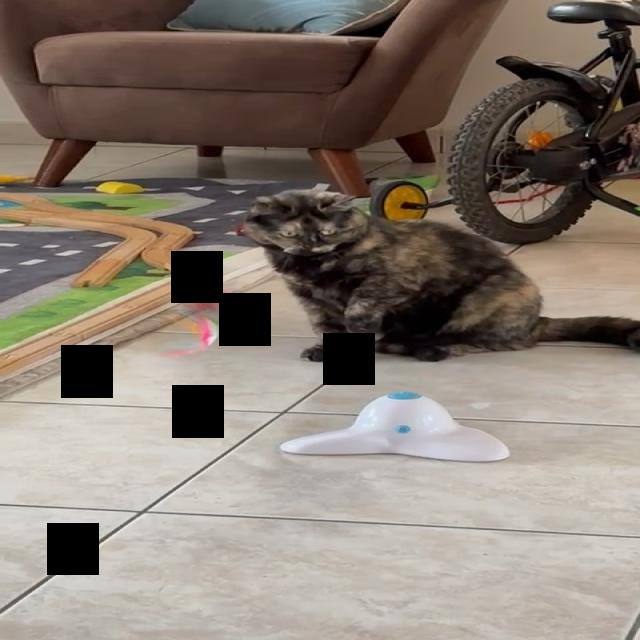authorized: (240, 188, 639, 363)
